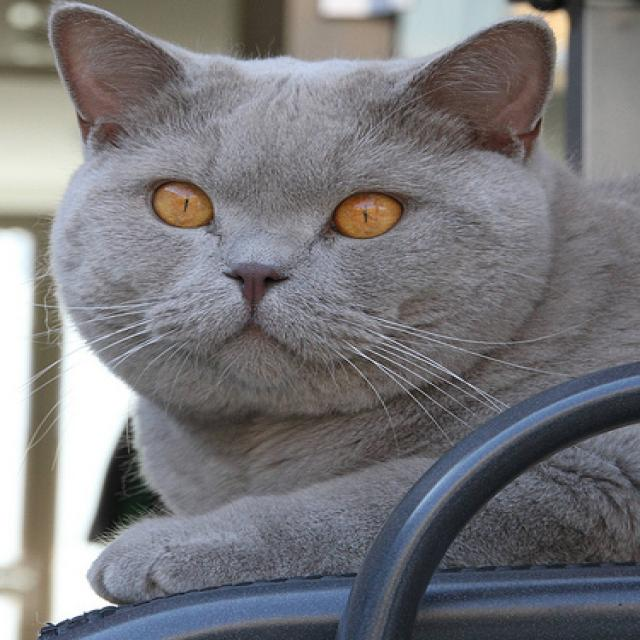British Shorthair: (42, 0, 640, 603)
